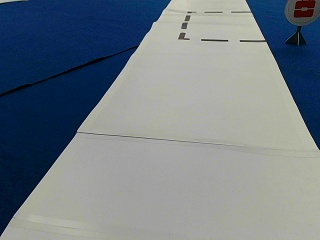company: (284, 0, 318, 25)
